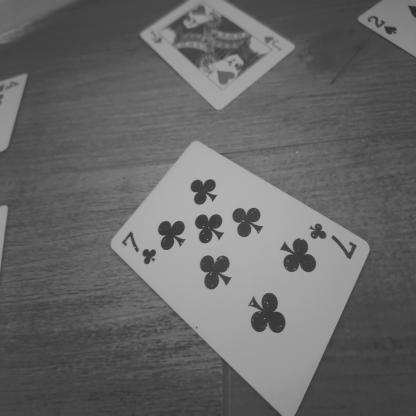7C: (305, 218, 365, 262), (116, 228, 163, 276)
JS: (260, 22, 290, 65)
